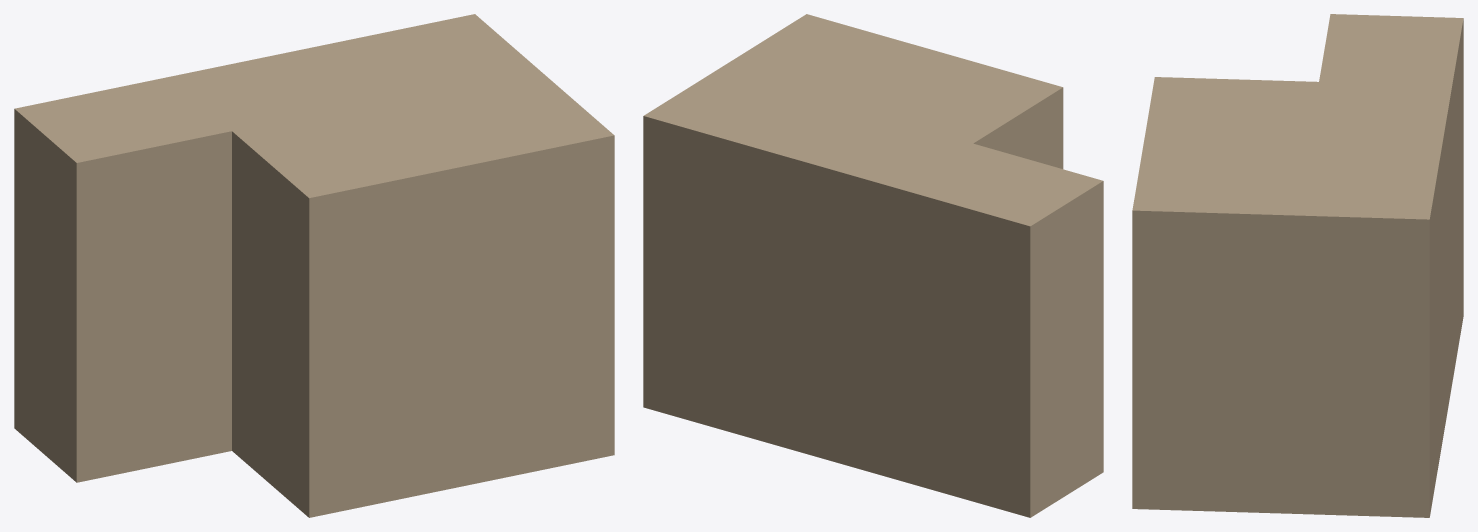
File: bld_100469434.dae
The picture shows the model from 3 angles, left to right: view 1: azimuth 30°, elevation 25°; view 2: azimuth 150°, elevation 25°; view 3: azimuth 270°, elevation 25°; orthographic projection. The views are drawn at different scales.
Visible parts, largest first — view 1: bld_100469434; view 2: bld_100469434; view 3: bld_100469434.
Boxes of the visible parts, box(x1,y1,x2,y2) form: bld_100469434: box(14, 14, 614, 517); bld_100469434: box(643, 14, 1103, 517); bld_100469434: box(1132, 14, 1463, 517).
Bounding box in the file's own units: 11.82 × 8.05 × 8.
